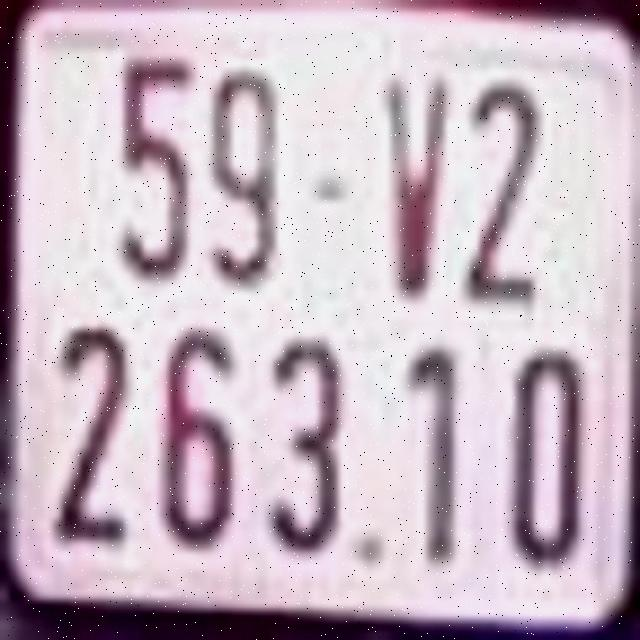0: (511, 346, 583, 564)
1: (404, 341, 464, 564)
2: (465, 76, 541, 308), (56, 325, 130, 545)
3: (268, 330, 343, 553)
5: (117, 52, 194, 279)
6: (163, 326, 236, 546)
9: (208, 62, 281, 286)
V: (380, 68, 454, 300)
